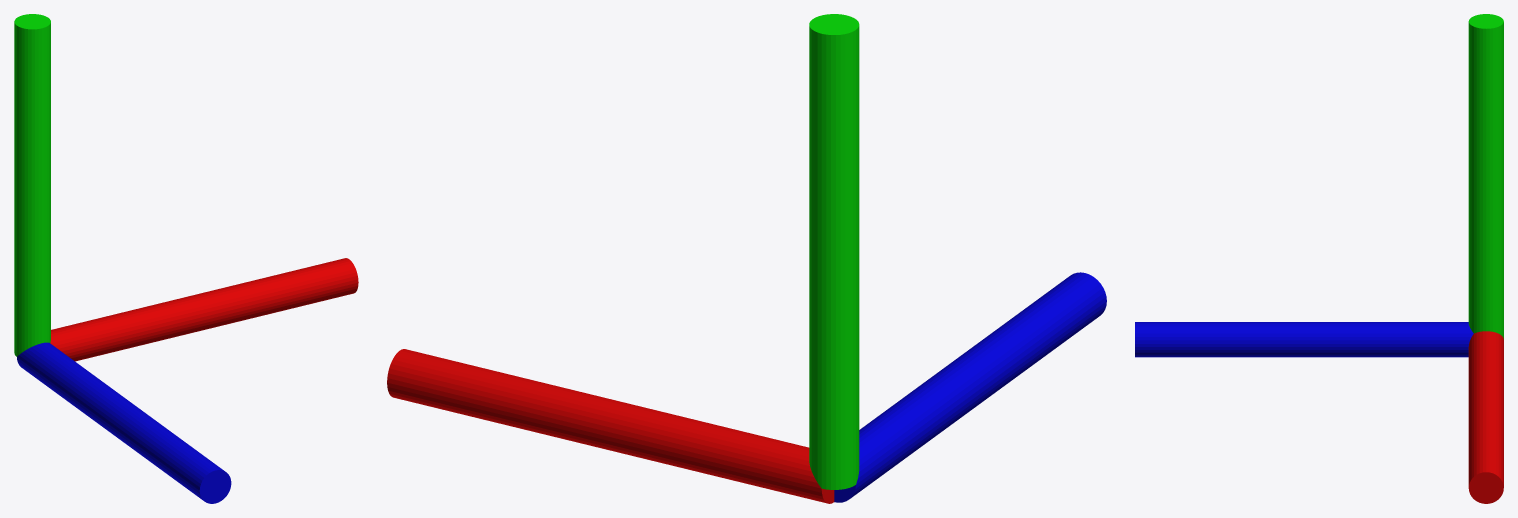
The model's file is xyz_gizmo.obj.
3 renders of one model, left to right at view 1: azimuth 30°, elevation 25°; view 2: azimuth 150°, elevation 25°; view 3: azimuth 270°, elevation 25°, orthographic. The views are drawn at different scales.
Visible parts, largest first — view 1: Y_Cylinder.001, X_Cylinder.002, Z_Cylinder; view 2: Y_Cylinder.001, X_Cylinder.002, Z_Cylinder; view 3: Z_Cylinder, Y_Cylinder.001, X_Cylinder.002.
Part boxes in pixels (<box>): Y_Cylinder.001: <box>14,14,50,356</box>; X_Cylinder.002: <box>50,258,358,361</box>; Z_Cylinder: <box>17,342,231,503</box>; Y_Cylinder.001: <box>809,14,859,489</box>; X_Cylinder.002: <box>387,349,834,503</box>; Z_Cylinder: <box>834,272,1106,502</box>; Z_Cylinder: <box>1135,322,1473,357</box>; Y_Cylinder.001: <box>1468,14,1503,339</box>; X_Cylinder.002: <box>1468,331,1503,503</box>.
Bounding box in the file's own units: 2.1 × 2.1 × 2.1.
